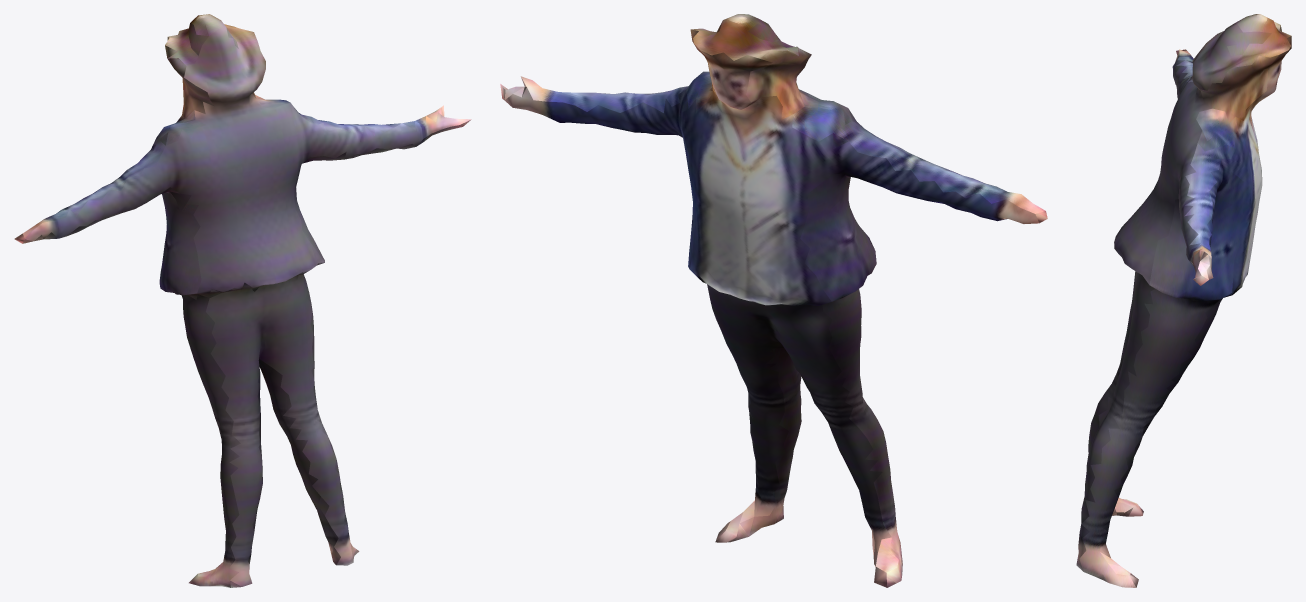
3 renders of one model, left to right at view 1: azimuth 30°, elevation 25°; view 2: azimuth 150°, elevation 25°; view 3: azimuth 270°, elevation 25°, orthographic. The views are drawn at different scales.
Visible parts, largest first — view 1: world; view 2: world; view 3: world.
Part boxes in pixels (left/top/right/bottom): world: left=14, top=14, right=471, bottom=587; world: left=500, top=14, right=1047, bottom=587; world: left=1076, top=14, right=1291, bottom=587.
Size of the model in its own units: 0.9039 by 0.9548 by 0.3499.
Materials: 1 (1 with a texture image).
